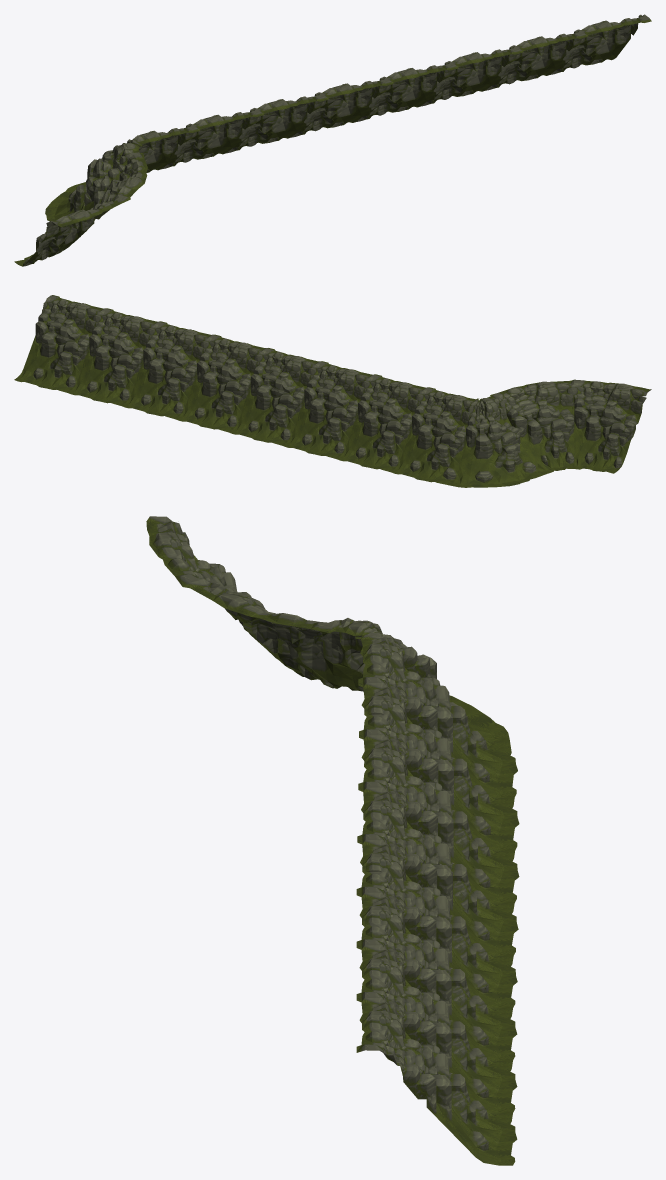
Rendered from Stonewall05.FBX.
The picture shows the model from 3 angles, top to bottom: view 1: azimuth 30°, elevation 25°; view 2: azimuth 150°, elevation 25°; view 3: azimuth 270°, elevation 25°; orthographic projection. The views are drawn at different scales.
Visible parts, largest first — view 1: Stonewall05; view 2: Stonewall05; view 3: Stonewall05.
Boxes of the visible parts, x1,y1,x2,y2 form: Stonewall05: [14, 14, 651, 266]; Stonewall05: [14, 295, 651, 487]; Stonewall05: [146, 516, 519, 1165].
Size of the model in its own units: 8164 by 837 by 2402.
